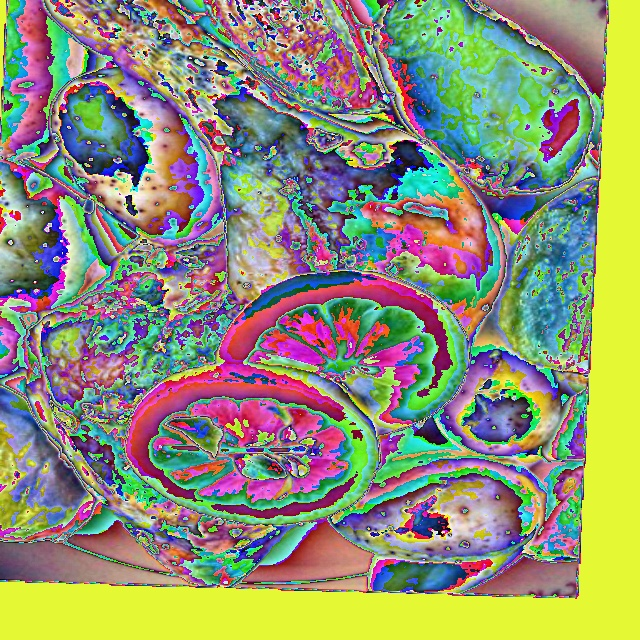background: (0, 0, 599, 590)
